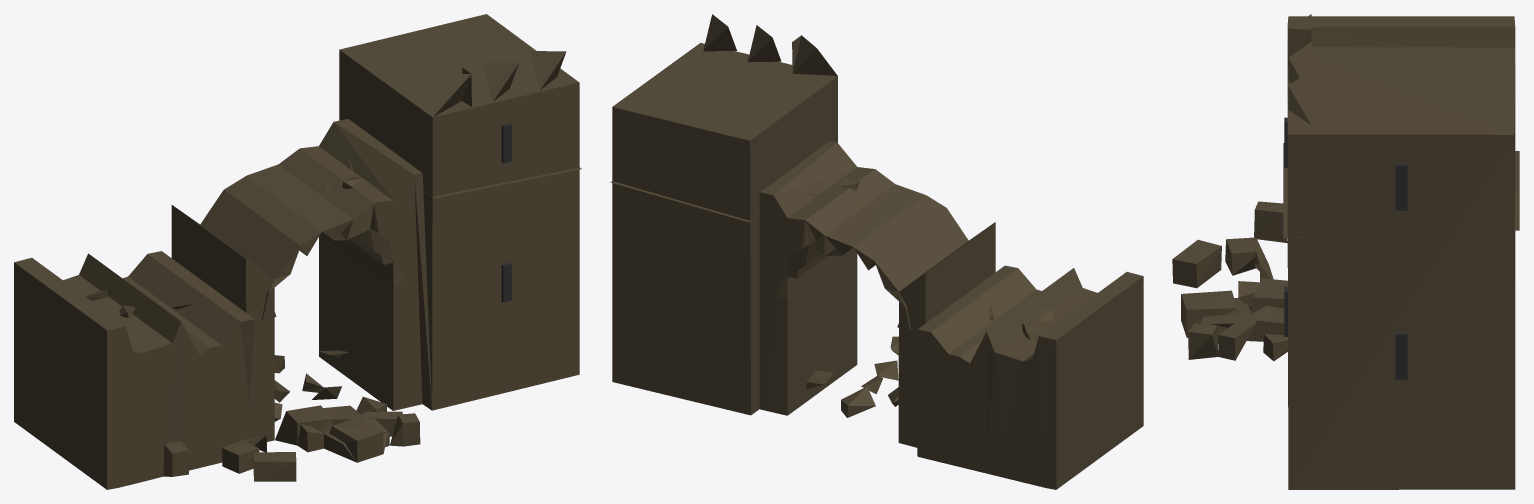
The model's file is gate-ruin-lod1.glb.
The picture shows the model from 3 angles, left to right: view 1: azimuth 30°, elevation 25°; view 2: azimuth 150°, elevation 25°; view 3: azimuth 270°, elevation 25°; orthographic projection. The views are drawn at different scales.
Size of the model in its own units: 16.08 by 10.6 by 8.39.
